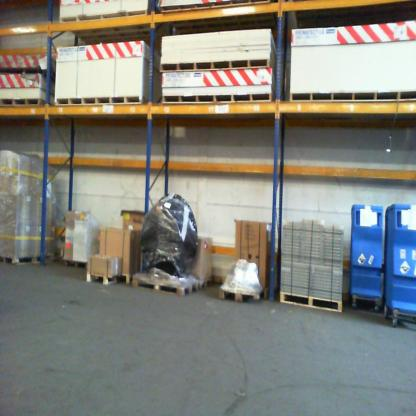pallet: (161, 85, 278, 120), (158, 2, 281, 34), (65, 8, 161, 45), (293, 91, 414, 114), (51, 91, 148, 117), (131, 265, 200, 299), (153, 54, 283, 72), (277, 291, 342, 318), (1, 247, 59, 274), (0, 93, 55, 119), (218, 280, 263, 310), (83, 268, 117, 290), (60, 258, 91, 276), (117, 269, 143, 290)
